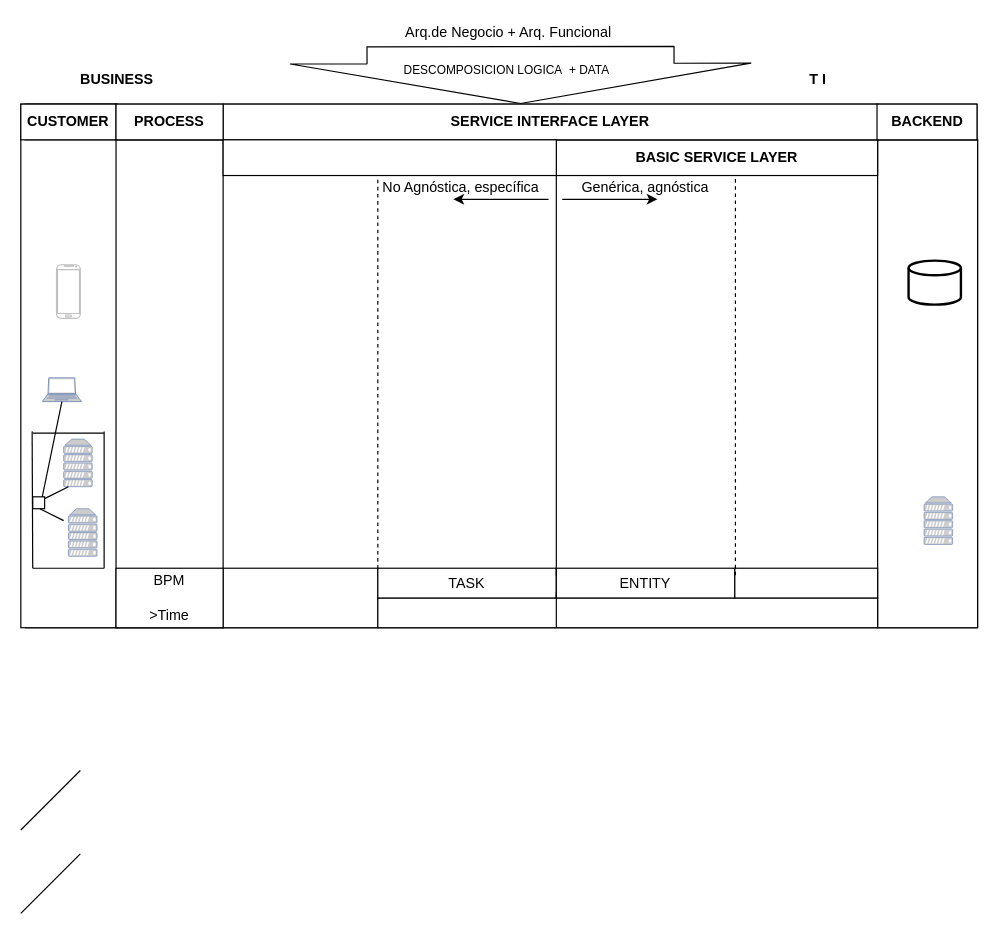
This 998x935 diagram has some shape labels left out. Each missing label, with the box of its shape:
BPEL: (222, 567, 378, 628)
CONTROLLER HYBRID UTILITY: (377, 597, 878, 628)
ORCHESTATION LAYER: (222, 139, 556, 176)
WRAPPER INTEGRATION: (734, 567, 878, 598)
